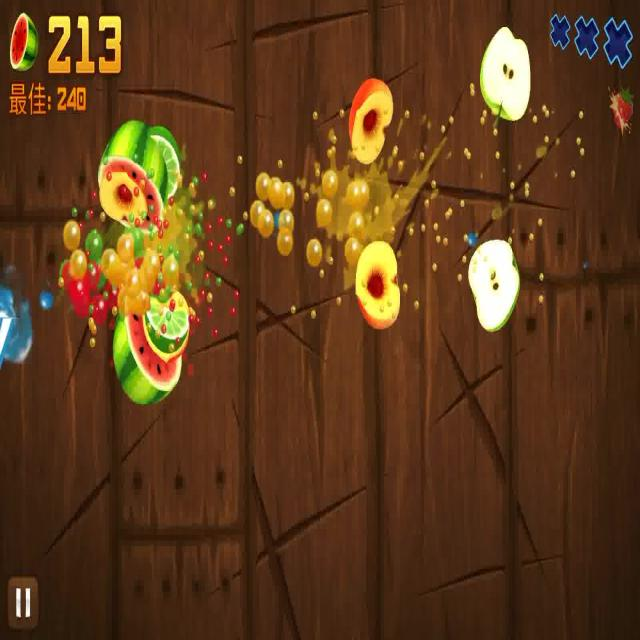fruit: (94, 116, 174, 224), (109, 311, 184, 400), (479, 23, 532, 126), (464, 241, 520, 328), (132, 291, 194, 355), (350, 73, 391, 169), (354, 248, 401, 325), (146, 126, 182, 200), (98, 170, 150, 217)
